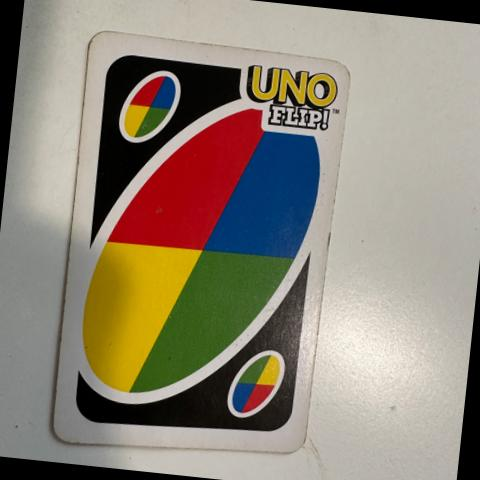lcolor-40: (91, 46, 184, 152)
